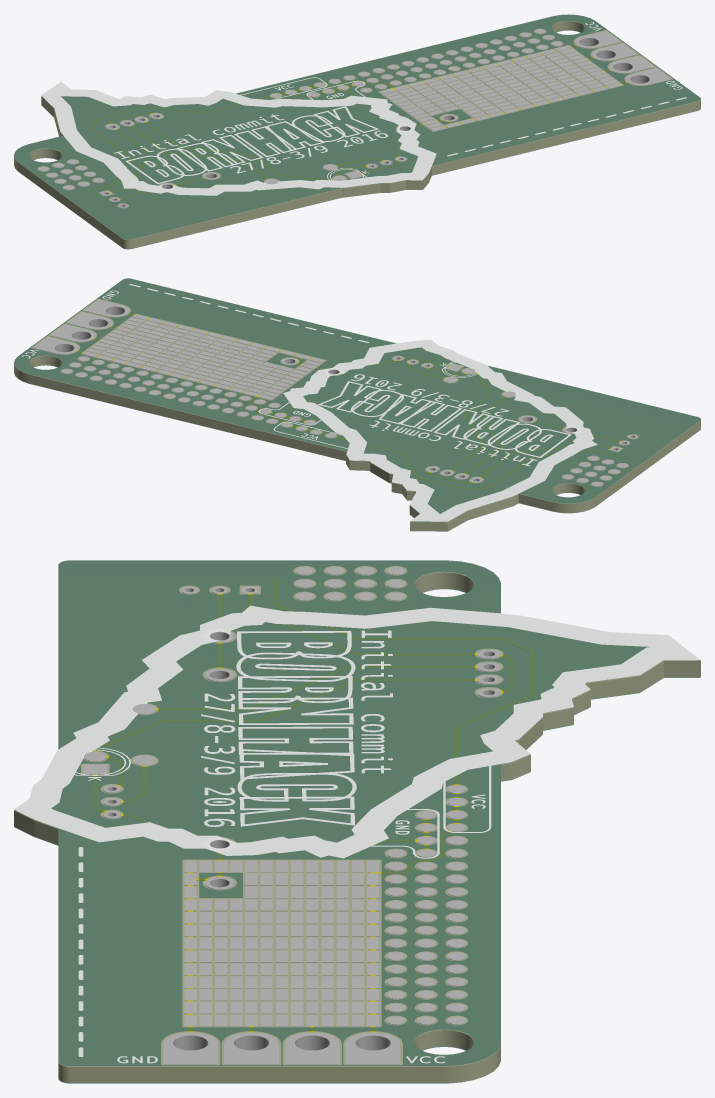
Rendered from bornhack-2016-badge.glb.
The picture shows the model from 3 angles, top to bottom: view 1: azimuth 30°, elevation 25°; view 2: azimuth 150°, elevation 25°; view 3: azimuth 270°, elevation 25°; orthographic projection. The views are drawn at different scales.
Parts seen in each view (by area): view 1: =>[0:1:1:9], =>[0:1:1:7], =>[0:1:1:2], =>[0:1:1:5]; view 2: =>[0:1:1:9], =>[0:1:1:7], =>[0:1:1:2], =>[0:1:1:5]; view 3: =>[0:1:1:9], =>[0:1:1:7], =>[0:1:1:2], =>[0:1:1:5].
Boxes of the visible parts, x1,y1,x2,y2 form: =>[0:1:1:9]: (14, 15, 700, 249); =>[0:1:1:7]: (14, 14, 700, 249); =>[0:1:1:2]: (38, 29, 671, 207); =>[0:1:1:5]: (41, 21, 686, 195); =>[0:1:1:9]: (14, 279, 700, 531); =>[0:1:1:7]: (14, 278, 700, 531); =>[0:1:1:2]: (33, 299, 637, 489); =>[0:1:1:5]: (21, 284, 597, 521); =>[0:1:1:9]: (14, 561, 700, 1082); =>[0:1:1:7]: (14, 560, 700, 1083); =>[0:1:1:2]: (83, 566, 534, 1064); =>[0:1:1:5]: (14, 605, 699, 1063).
Bounding box in the file's own units: 0.1 × 0.00166 × 0.0574.
Materials: 4 (4 with a texture image).
